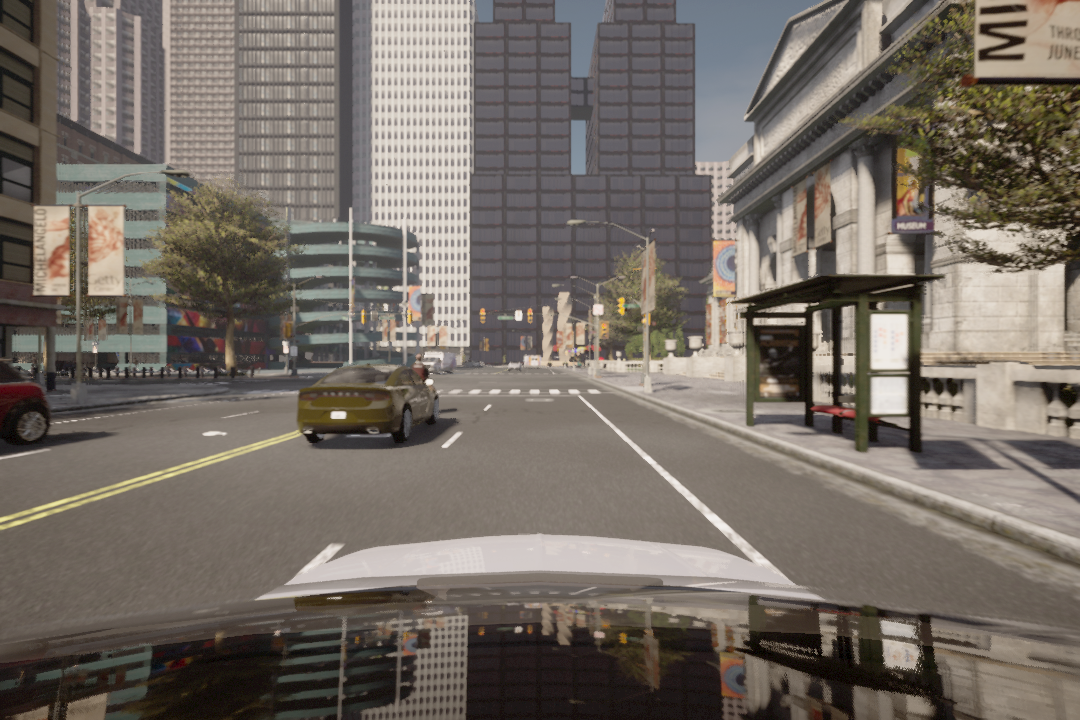TrafficLight: (527, 307, 534, 324), (479, 306, 485, 323)
walkside: (432, 387, 612, 396)
